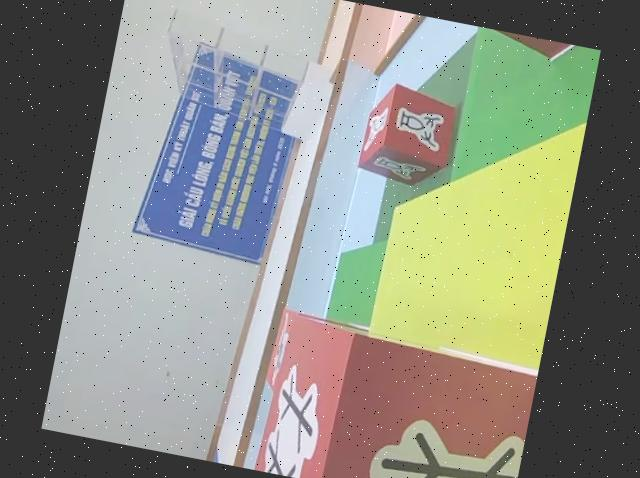R2 Fake: (435, 19, 600, 71)
R2 Real: (246, 309, 540, 478), (351, 78, 462, 195)
